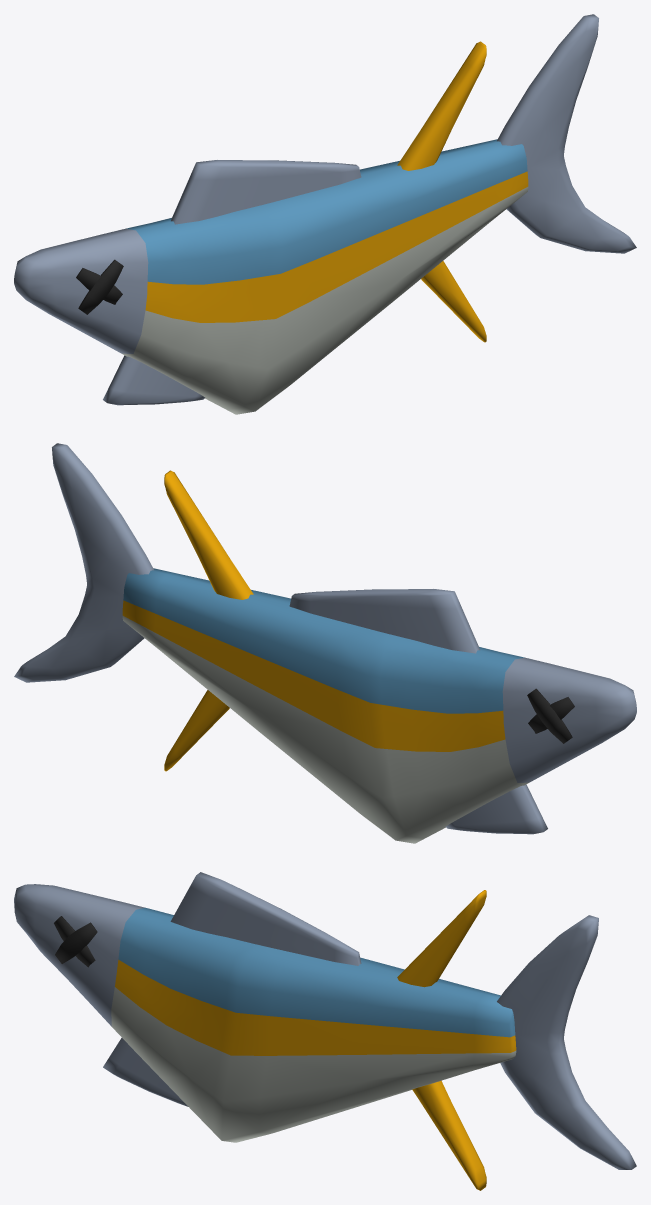
File: Tuna.glb
3 views of the same model, one above another, from view 1: azimuth 30°, elevation 25°; view 2: azimuth 150°, elevation 25°; view 3: azimuth 330°, elevation 25° (orthographic).
Visible parts, largest first — view 1: FoodIngredient_Tuna; view 2: FoodIngredient_Tuna; view 3: FoodIngredient_Tuna.
Boxes of the visible parts, <box> form: FoodIngredient_Tuna: <box>14,14,636,414</box>; FoodIngredient_Tuna: <box>14,443,636,843</box>; FoodIngredient_Tuna: <box>14,872,636,1190</box>.
Bounding box in the file's own units: 1.56 × 0.7505 × 0.1963.
Materials: 1 (1 with a texture image).
